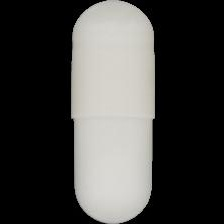68387-420: (0, 0, 224, 224)
